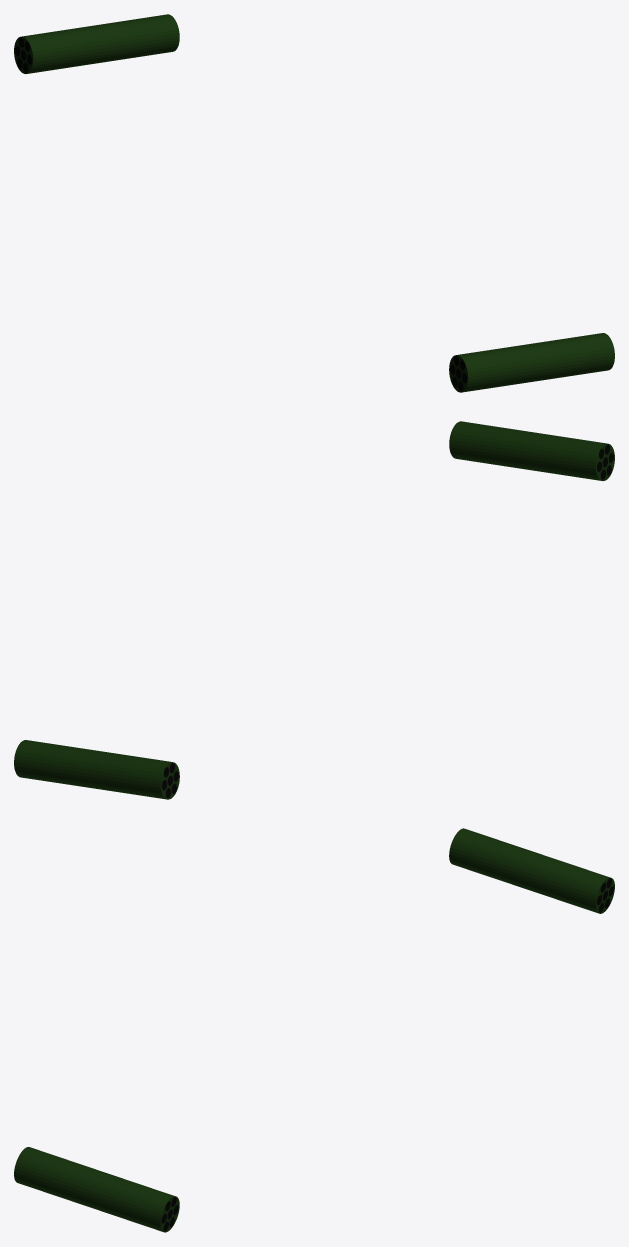
3 views of the same model, one above another, from view 1: azimuth 30°, elevation 25°; view 2: azimuth 150°, elevation 25°; view 3: azimuth 330°, elevation 25° (orthographic).
Visible parts, largest first — view 1: 円柱.009, 円柱.006; view 2: 円柱.006, 円柱.009; view 3: 円柱.009, 円柱.006.
Boxes of the visible parts, bbox=[...] form: 円柱.009: bbox=[449, 333, 614, 392]; 円柱.006: bbox=[14, 14, 179, 73]; 円柱.006: bbox=[14, 740, 179, 799]; 円柱.009: bbox=[449, 421, 614, 480]; 円柱.009: bbox=[14, 1147, 179, 1232]; 円柱.006: bbox=[449, 828, 614, 913].
Size of the model in its own units: 1.46 by 0.4464 by 7.68.
Materials: 1 (1 with a texture image).
